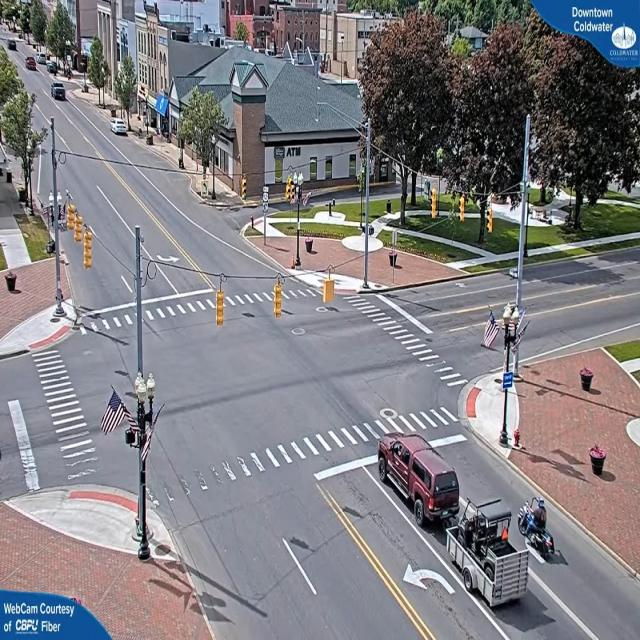car: (378, 432, 462, 530), (113, 120, 128, 136)
motorbike: (519, 495, 558, 560)
